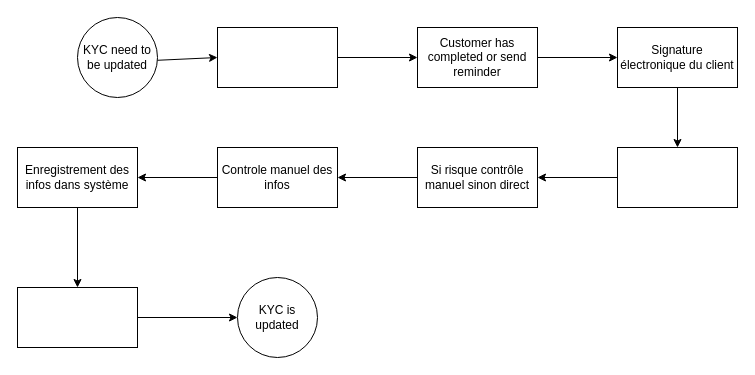
The diagram is 755 pixels wide and 375 high, and some of its shapes have lost their labels. Here are the shapes that lost their labels. From the top down, the centre of each, then its label:
the point at 277,57: Send an email to the customer
the point at 677,177: Check informations à risque
the point at 77,317: Envoi du recap au client
